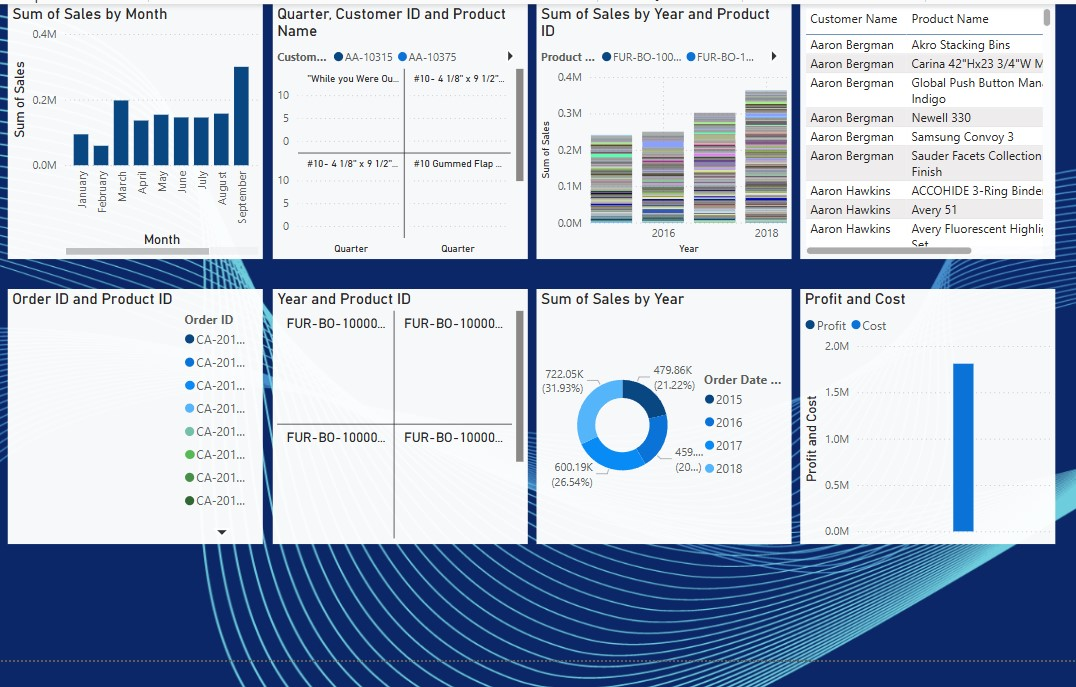

The page's visual inventory and layout, read from the dashboard file:
{"tool":"powerbi","page":{"name":"Page 3","canvas":[1280,720],"ordinal":2},"visuals":[{"type":"columnChart","fields":{"Category":["train.Order Date.Variation.Date Hierarchy.Month"],"Y":["train.Sales"]},"box":[10,0,280,280],"z":0},{"type":"pieChart","fields":{"Category":["train.Segment","train.Order ID"],"Series":["train.Product ID"]},"box":[9.6,312.9,279.9,279.9],"z":1},{"type":"ribbonChart","fields":{"Category":["train.Order Date.Variation.Date Hierarchy.Quarter"],"Series":["train.Customer ID"],"Rows":["train.Product Name"]},"box":[300,0,280,280],"z":2},{"type":"hundredPercentStackedAreaChart","fields":{"Category":["train.Order Date.Variation.Date Hierarchy.Year"],"Rows":["train.Product ID"]},"box":[300,313,280,280],"z":3},{"type":"lineStackedColumnComboChart","fields":{"Category":["train.Order Date.Variation.Date Hierarchy.Year"],"Y":["train.Sales"],"Series":["train.Product ID"]},"box":[590,0,280,280],"z":4},{"type":"tableEx","fields":{"Values":["train.Customer Name","train.Product Name"]},"box":[880,0,280,280],"z":6},{"type":"clusteredColumnChart","fields":{"Y":["train.Profit","train.Cost"]},"box":[880,313,280,280],"z":7},{"type":"donutChart","fields":{"Category":["train.Order Date.Variation.Date Hierarchy.Year","train.Order Date.Variation.Date Hierarchy.Quarter","train.Order Date.Variation.Date Hierarchy.Month","train.Order Date.Variation.Date Hierarchy.Day"],"Y":["train.Sales"]},"box":[590,313,280,280],"z":8}]}

Visuals, with their boxes on the page's 1280x720 design canvas (x1, y1, x2, y2). These are canvas units, not pixel positions in the 1076x687 screenshot, which may show the page scaled, cropped or inside an application window:
columnChart - train.Order Date.Variation.Date Hierarchy.Month x train.Sales: select_region(10, 0, 290, 280)
pieChart - train.Segment x train.Order ID: select_region(10, 313, 290, 593)
ribbonChart - train.Order Date.Variation.Date Hierarchy.Quarter x train.Customer ID: select_region(300, 0, 580, 280)
hundredPercentStackedAreaChart - train.Order Date.Variation.Date Hierarchy.Year x train.Product ID: select_region(300, 313, 580, 593)
lineStackedColumnComboChart - train.Order Date.Variation.Date Hierarchy.Year x train.Sales: select_region(590, 0, 870, 280)
tableEx - train.Customer Name x train.Product Name: select_region(880, 0, 1160, 280)
clusteredColumnChart - train.Profit x train.Cost: select_region(880, 313, 1160, 593)
donutChart - train.Order Date.Variation.Date Hierarchy.Year x train.Order Date.Variation.Date Hierarchy.Quarter: select_region(590, 313, 870, 593)
